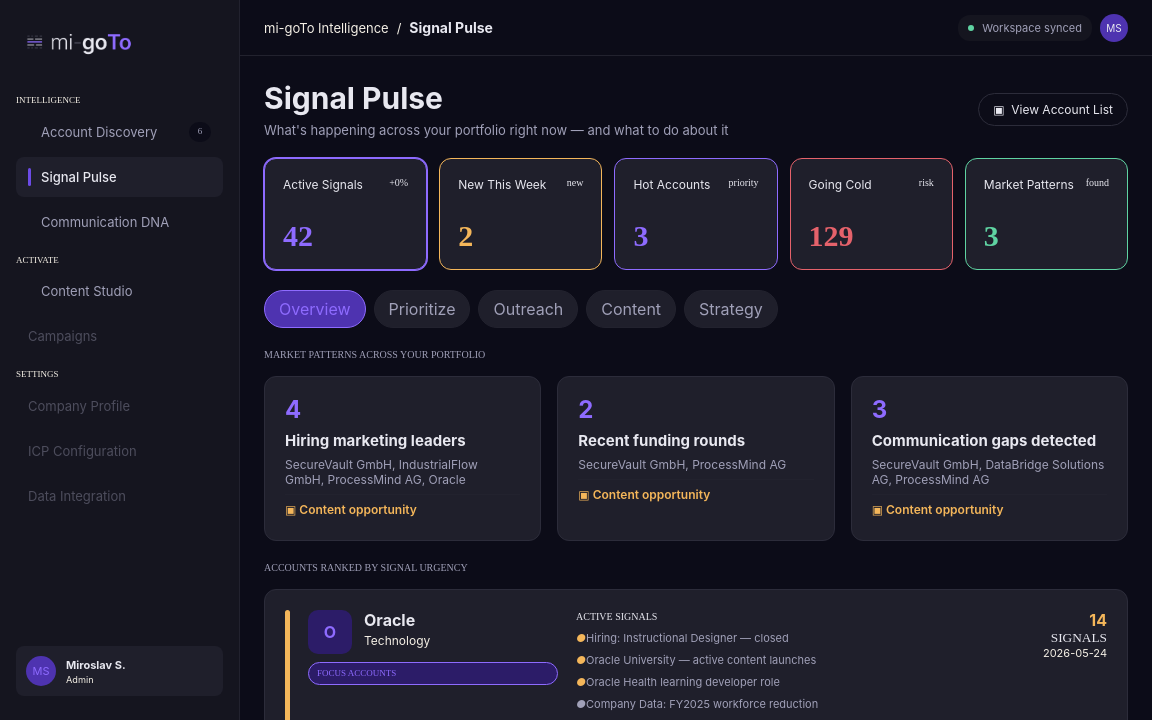
Test: TASK-MAINT-005 Stage B Signal Pulse › renders accessible local tabs and deterministic metric filters
Expected: the number of tabs is 5, [264,290,366,328]; [374,290,470,328]; [478,290,578,328]; [586,290,676,328]; [684,290,778,328]
Click the button "New This Week new 2" at (521, 214), box [439,158,602,270]
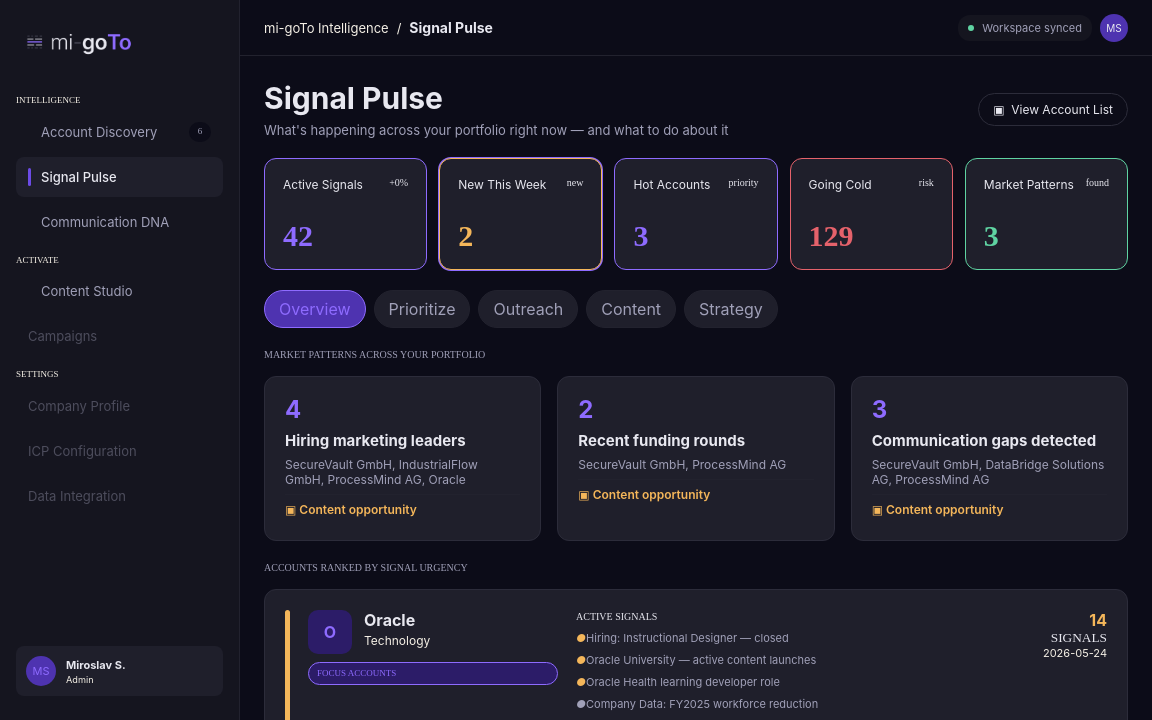
Click the button "Going Cold risk 129" at (871, 214), box [790,158,953,270]
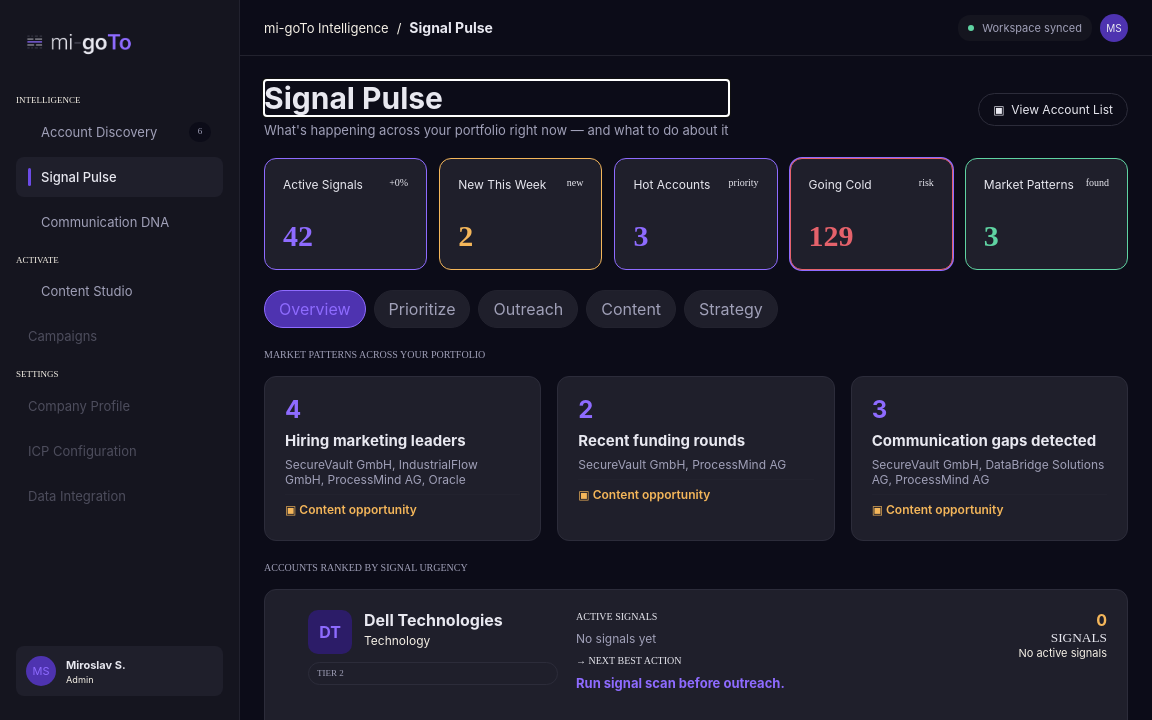
Now the text "Dell Technologies" is shown, box [364,610,503,630]
